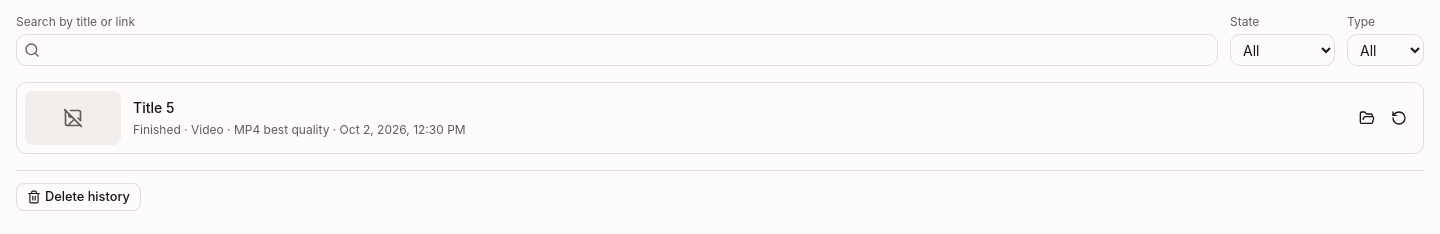
Test case: the history › says why an entry could not be queued again
What coordinates should you click on to do the following:
click the button named "Download again"
I would click on:
 (1399, 118)
Its box is [1383, 102, 1415, 134].
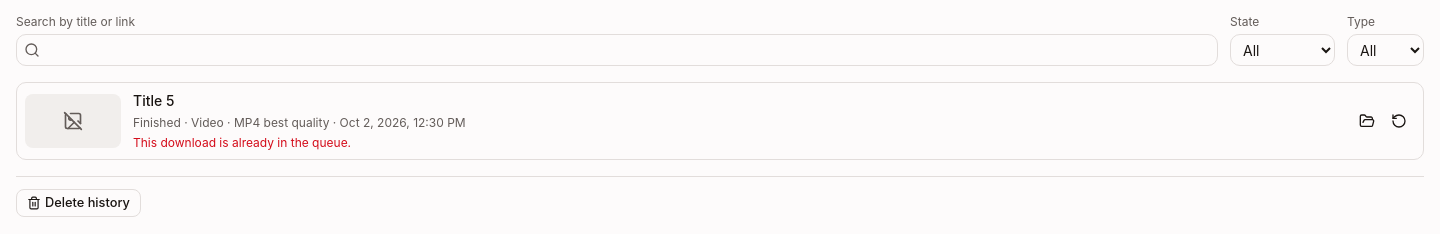
Result: the message reads "This download is already in the queue." at [133, 135, 351, 150]
